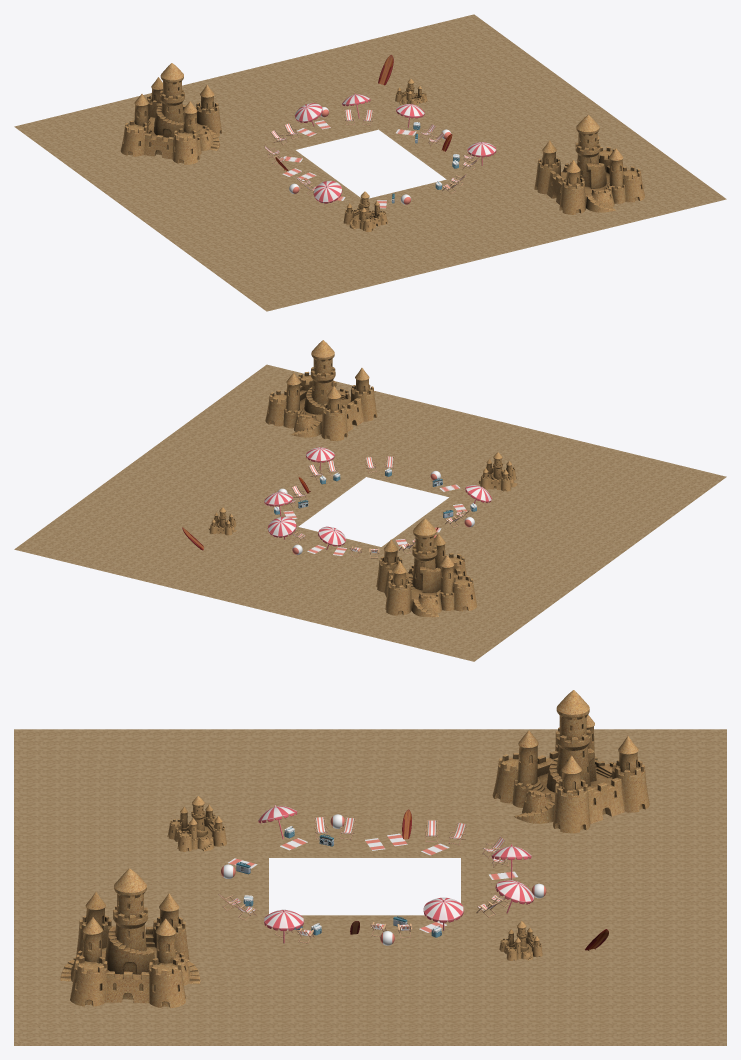
The model's file is sandScenario.gltf.
3 views of the same model, one above another, from view 1: azimuth 30°, elevation 25°; view 2: azimuth 150°, elevation 25°; view 3: azimuth 270°, elevation 25° (orthographic). The views are drawn at different scales.
Parts seen in each view (by area): view 1: Plane.001; view 2: Plane.001; view 3: Plane.001.
Part boxes in pixels (x1,y1,x2,y2): Plane.001: [14, 14, 726, 311]; Plane.001: [14, 340, 726, 661]; Plane.001: [14, 690, 726, 1045].
Size of the model in its own units: 65.61 by 11.26 by 62.42.
Materials: 7 (7 with a texture image).
